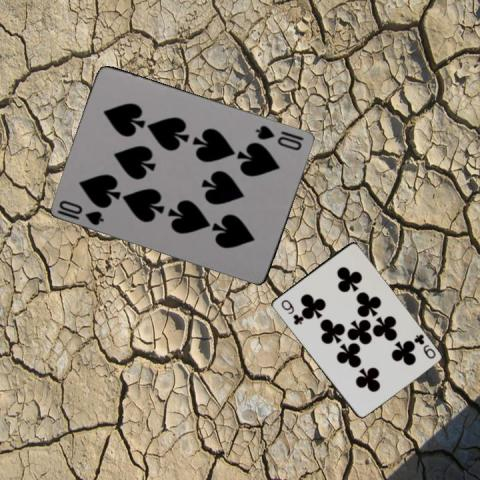10s: (253, 122, 304, 152), (56, 196, 106, 226)
9c: (410, 331, 436, 360), (278, 296, 303, 326)
